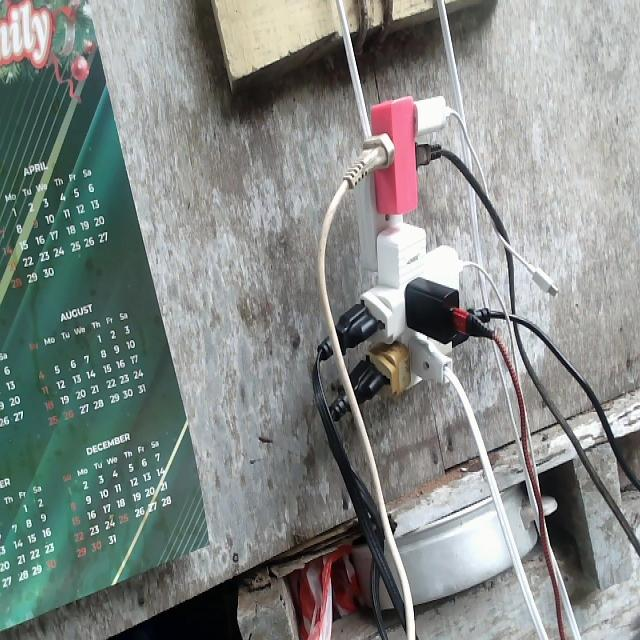-: (325, 92, 479, 409)
